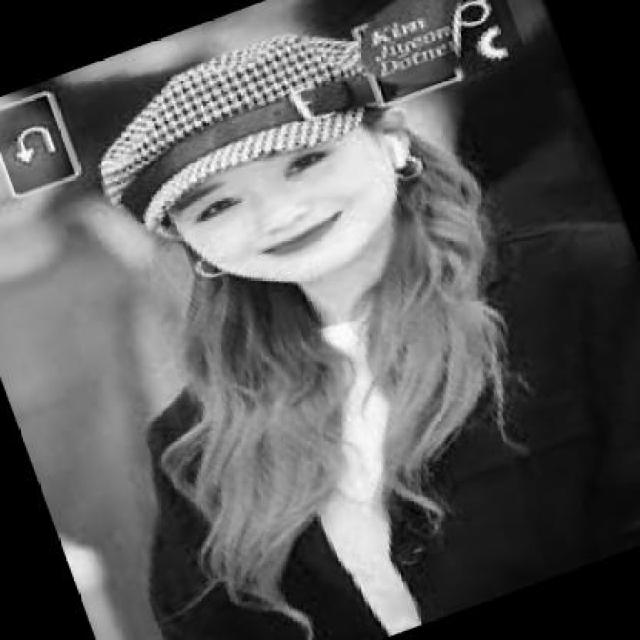earphone: (369, 123, 458, 198)
